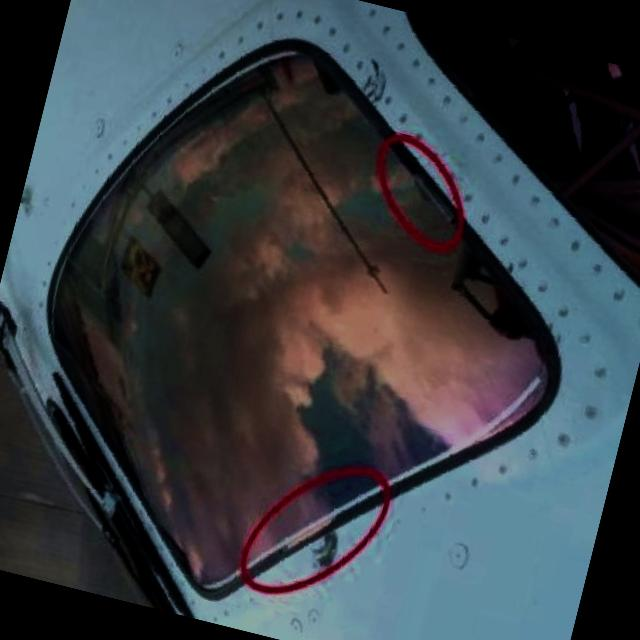crack: (358, 59, 391, 106)
